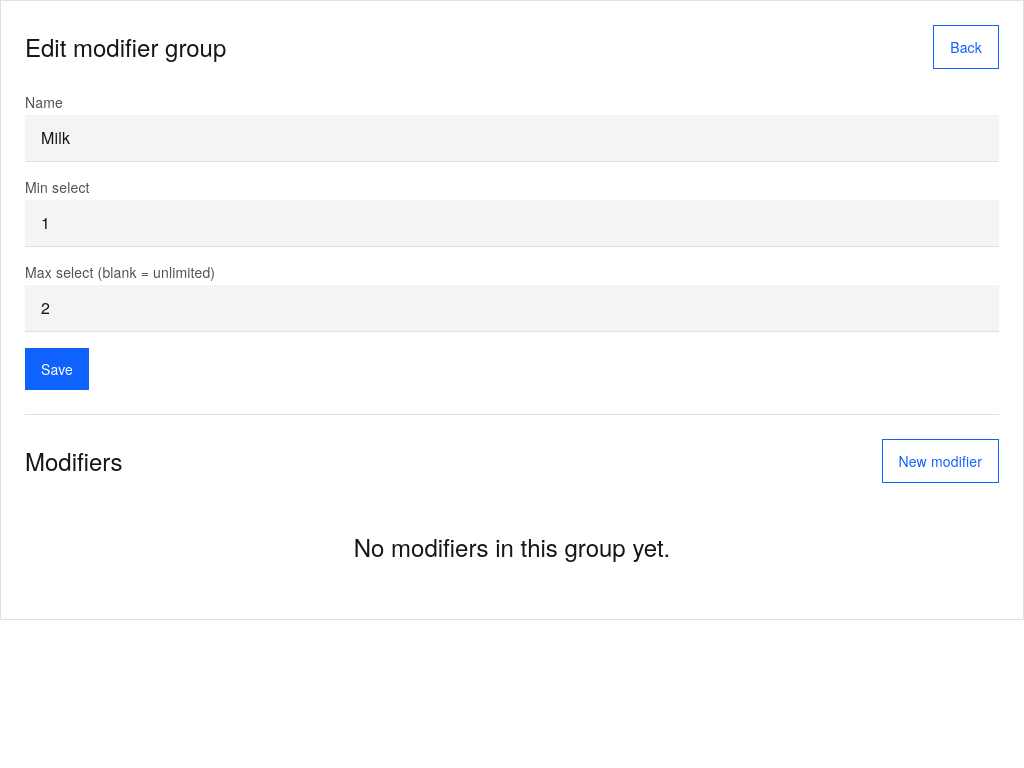
Test: ModifierGroupEditor › rejects a blank min select instead of silently saving as 0
Clear the field labelled "Min select": (512, 224) [25, 200, 999, 247]
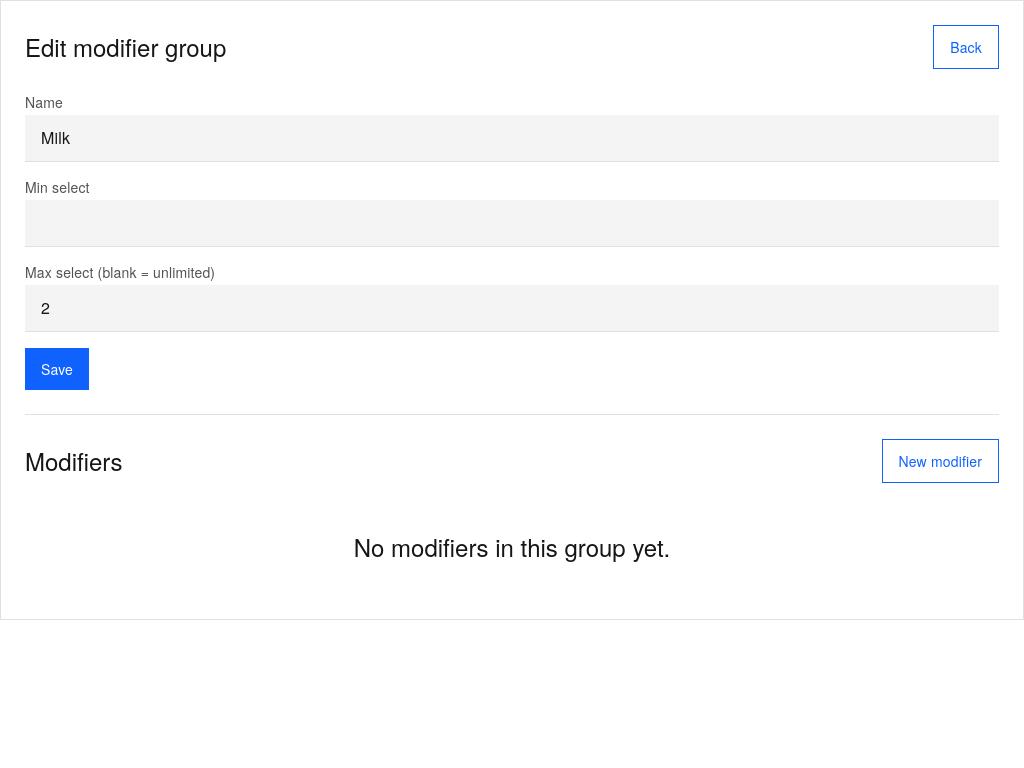
Click the button "Save": (57, 369) [25, 348, 89, 390]
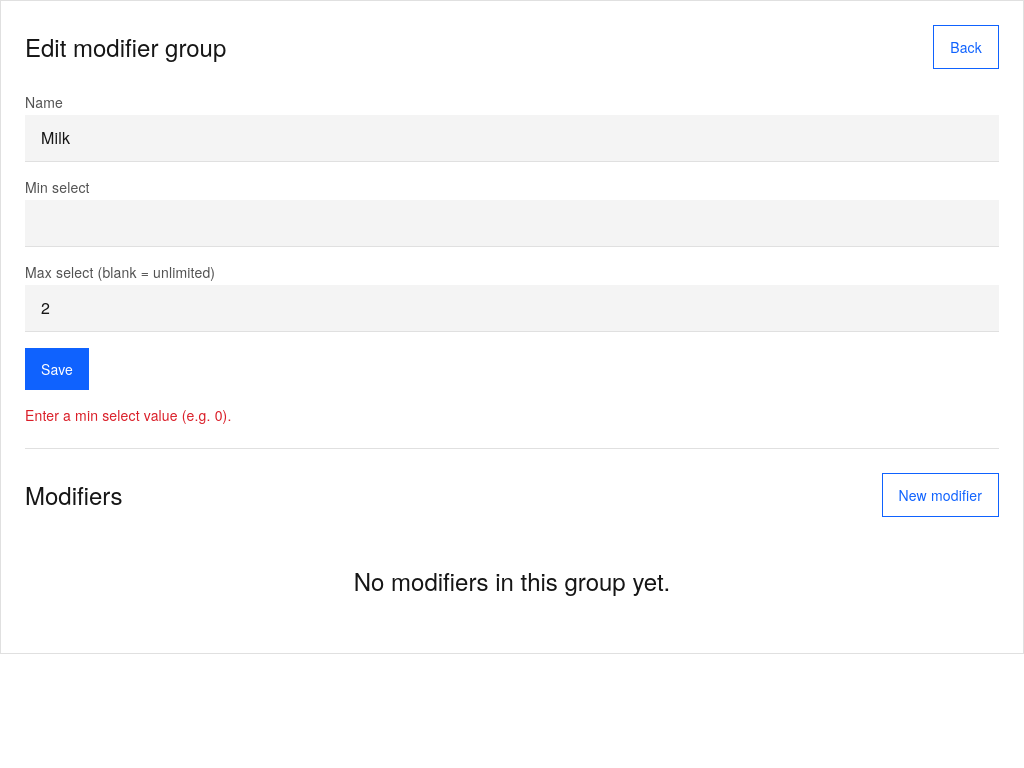
Check: the text "Enter a min select value (e.g. 0)." is shown, box [25, 405, 232, 425]
